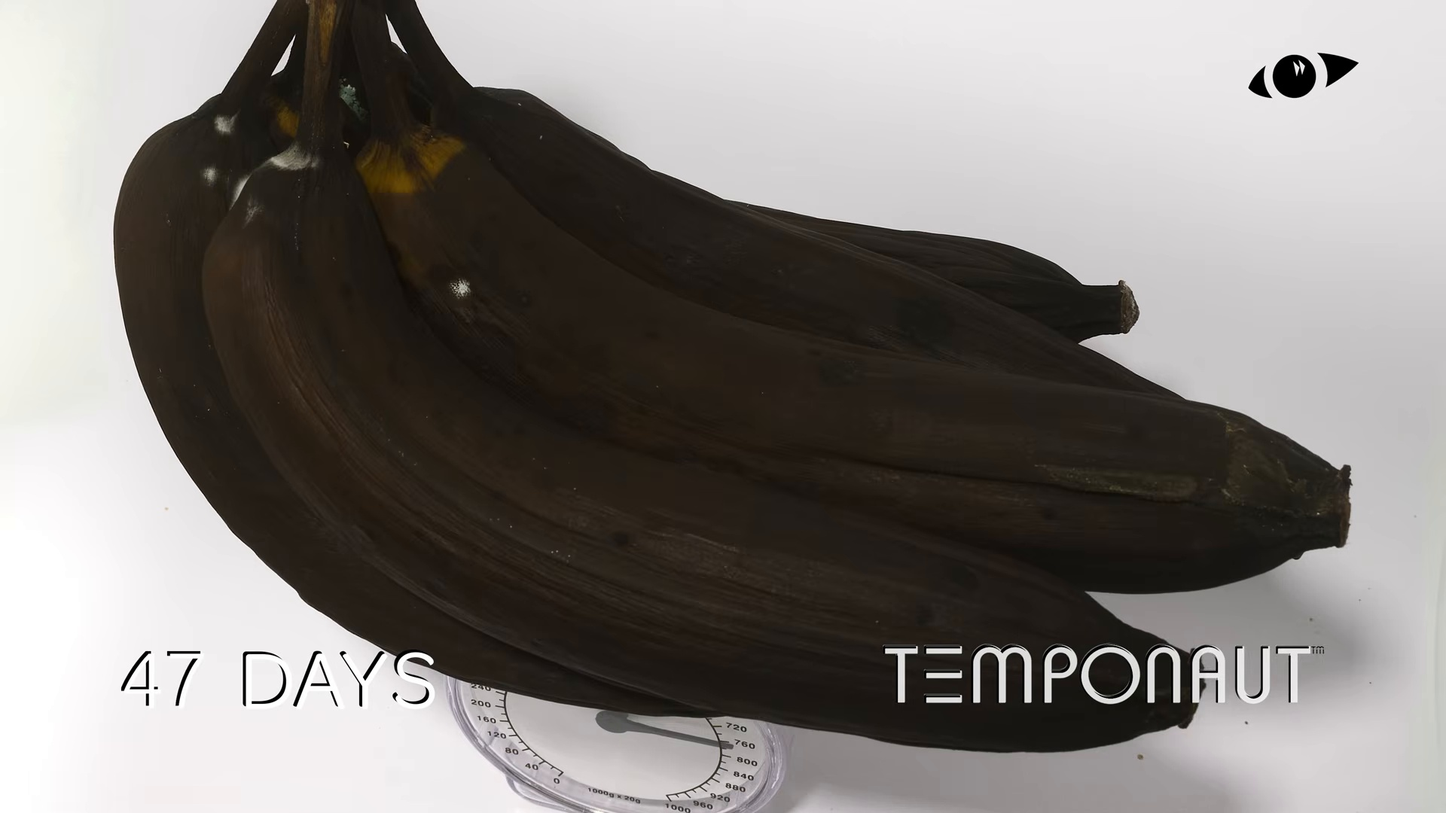banana_rotten: (108, 3, 1210, 754)
